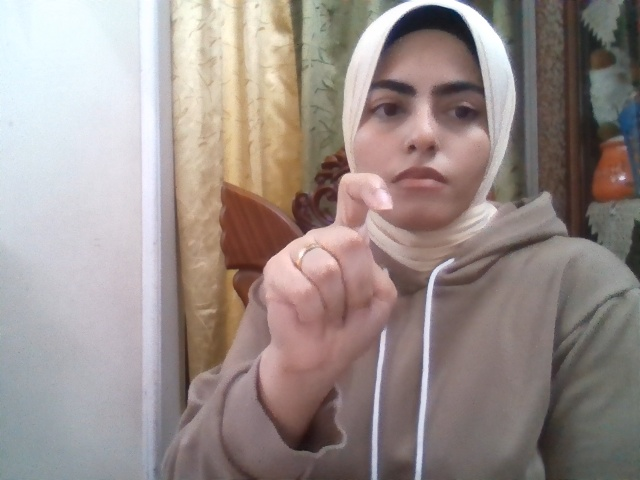X: (263, 172, 399, 377)
